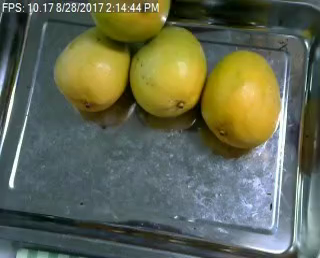Mango: (198, 47, 285, 147), (126, 20, 209, 123), (49, 20, 133, 118), (88, 2, 170, 48)
